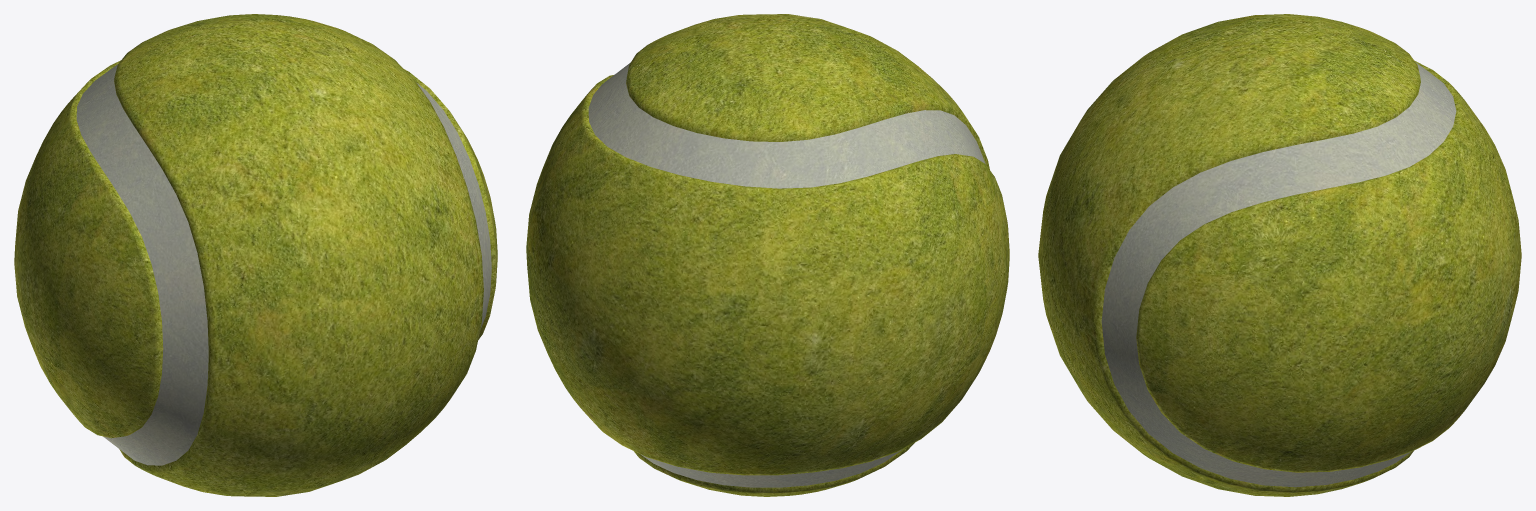
Rendered from tennis.glb.
3 renders of one model, left to right at view 1: azimuth 30°, elevation 25°; view 2: azimuth 150°, elevation 25°; view 3: azimuth 270°, elevation 25°, orthographic.
Parts seen in each view (by area): view 1: Cube_Cube.004, Cube.001_Cube.005; view 2: Cube_Cube.004, Cube.001_Cube.005; view 3: Cube_Cube.004, Cube.001_Cube.005.
Part boxes in pixels (box(x1,y1,x2,y2)): Cube_Cube.004: box(14, 14, 497, 496); Cube.001_Cube.005: box(76, 64, 491, 465); Cube_Cube.004: box(526, 14, 1009, 496); Cube.001_Cube.005: box(588, 62, 985, 487); Cube_Cube.004: box(1038, 14, 1521, 496); Cube.001_Cube.005: box(1101, 62, 1456, 487).
Bounding box in the file's own units: 2 × 2 × 2.
2 materials, 2 textured.
